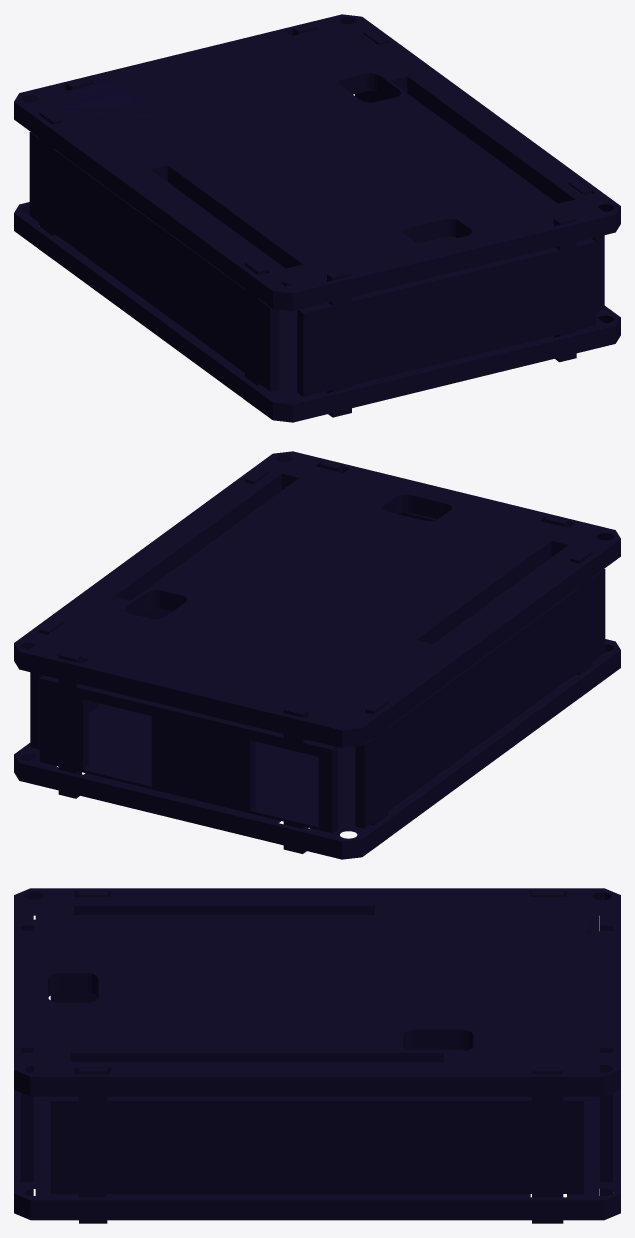
Rendered from Protector Arduino .glb.
The picture shows the model from 3 angles, top to bottom: view 1: azimuth 30°, elevation 25°; view 2: azimuth 150°, elevation 25°; view 3: azimuth 270°, elevation 25°; orthographic projection. The views are drawn at different scales.
Parts seen in each view (by area): view 1: TAPA, Pared2, Pared3, Base, Pared1; view 2: TAPA, Base, Pared3, Pared4, Pared1, Pared2; view 3: TAPA, Pared1, Base, Pared4, Pared2, Pared3.
Boxes of the visible parts, left/top/right/bottom form: TAPA: left=14, top=14, right=620, bottom=311; Pared2: left=297, top=214, right=595, bottom=417; Pared3: left=29, top=110, right=279, bottom=391; Base: left=14, top=202, right=620, bottom=422; Pared1: left=355, top=30, right=604, bottom=312; TAPA: left=14, top=451, right=620, bottom=748; Base: left=14, top=639, right=620, bottom=859; Pared3: left=355, top=549, right=605, bottom=828; Pared4: left=39, top=651, right=338, bottom=853; Pared1: left=30, top=470, right=267, bottom=749; Pared2: left=320, top=460, right=569, bottom=527; TAPA: left=14, top=888, right=620, bottom=1096; Pared1: left=50, top=1066, right=584, bottom=1223; Base: left=14, top=1049, right=620, bottom=1220; Pared4: left=599, top=915, right=612, bottom=1195; Pared2: left=20, top=915, right=33, bottom=1195; Pared3: left=50, top=890, right=563, bottom=1002.
Size of the model in its own units: 0.061 by 0.0234 by 0.083.
